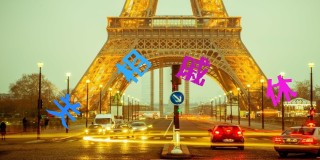休: (266, 75, 298, 107)
关: (46, 92, 81, 128)
戚: (175, 55, 209, 86)
相: (116, 48, 152, 83)
